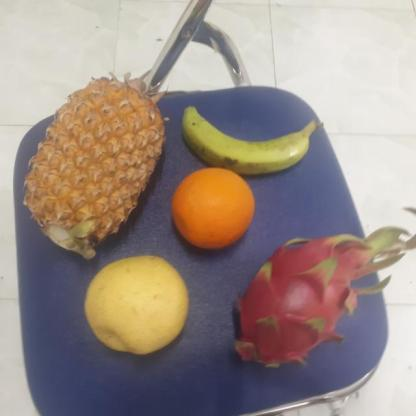banana: (176, 91, 310, 176)
orange: (166, 167, 254, 250)
pear: (79, 254, 190, 356)
pineapple: (23, 81, 161, 257)
pitaya: (226, 235, 362, 367)
